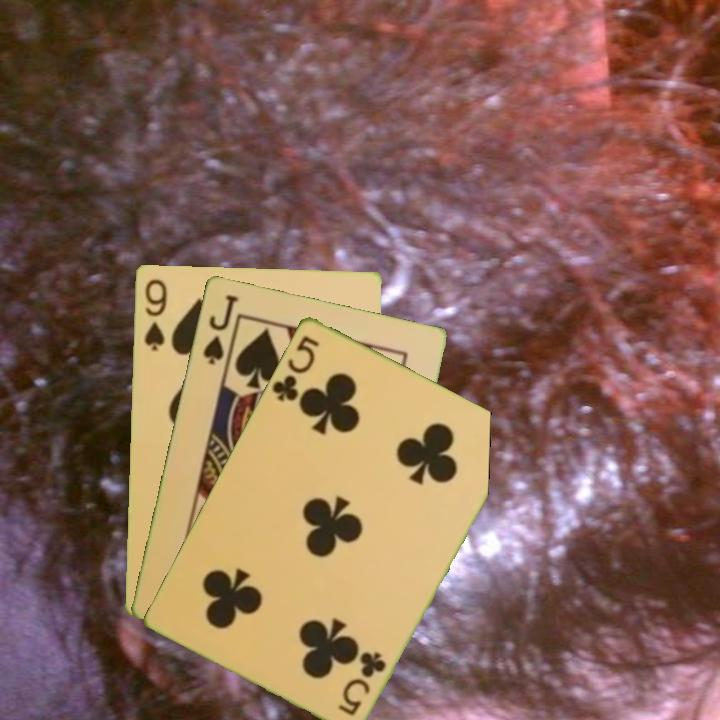5c: (268, 331, 322, 404), (334, 647, 389, 718)
9s: (140, 275, 169, 353)
Js: (199, 290, 241, 367)
